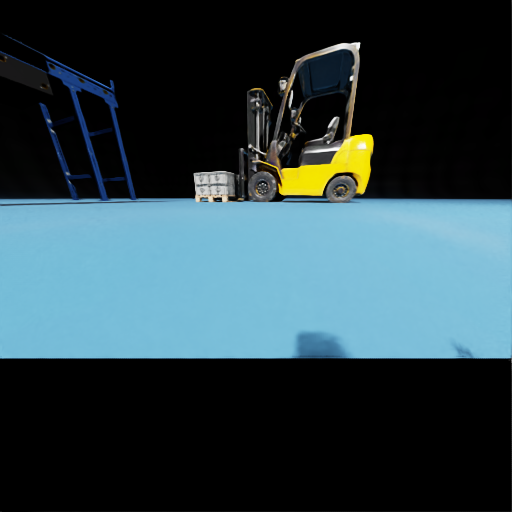transportation_area: (210, 184, 238, 194)
